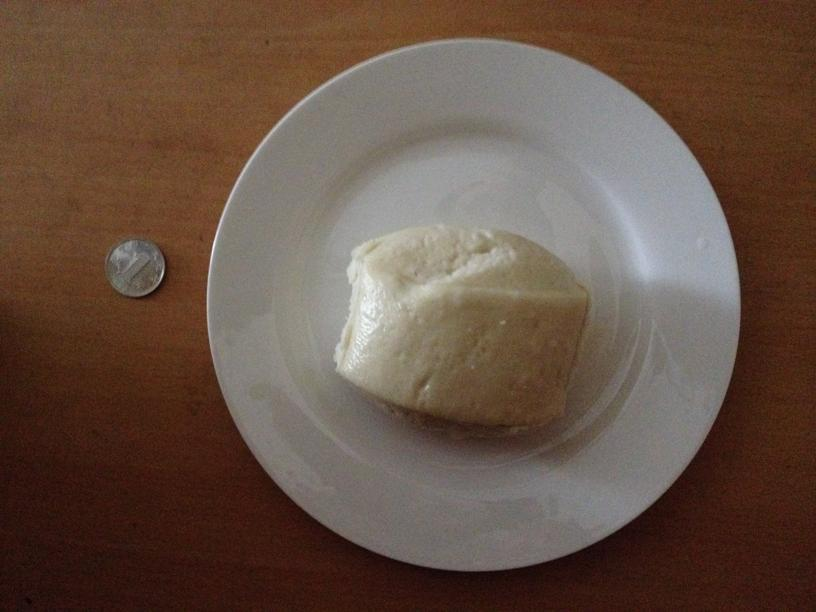bun: (332, 227, 591, 430)
coin: (104, 237, 166, 297)
